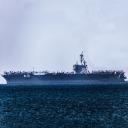Portanaves: (1, 52, 128, 85)
